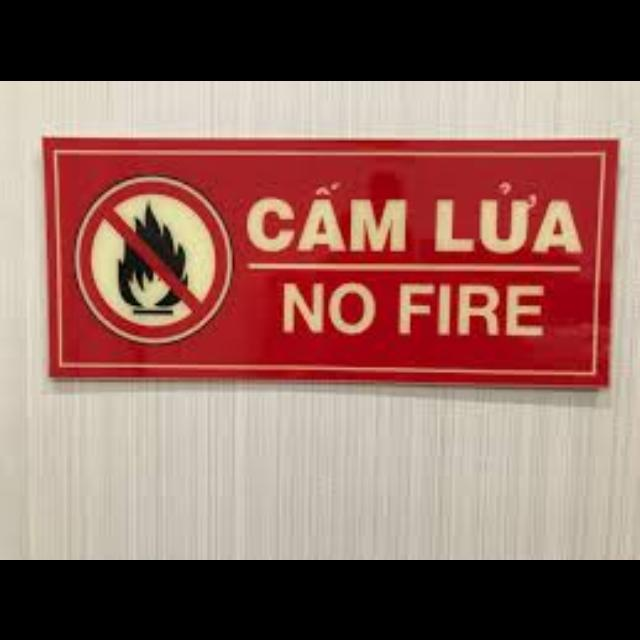cam lua: (44, 137, 615, 381)
